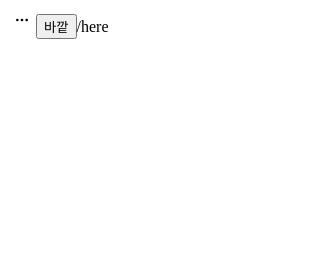
키보드 › Enter 는 그 항목을 한 번 부르고 닫고 포커스를 단추로 돌려준다
Click the button named "더 보기": (22, 20) top-left (8, 8), bottom-right (36, 32)
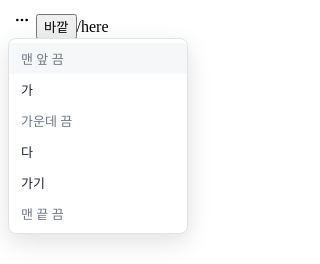
Press ArrowDown in the menu item "맨 앞 끔", box top-left (9, 43), bottom-right (187, 74)
Press ArrowDown in the menu item "가", box top-left (9, 74), bottom-right (187, 105)
Press ArrowDown in the menu item "가운데 끔", box top-left (9, 105), bottom-right (187, 136)
Press Enter in the menu item "다", box top-left (9, 136), bottom-right (187, 167)
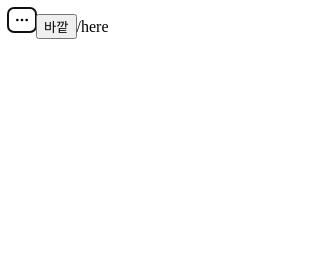
Expected: the menu is gone
